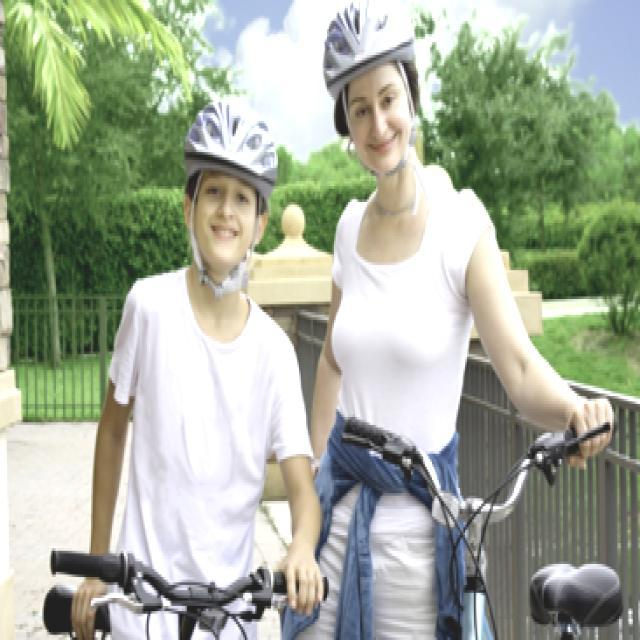Helmet: (171, 100, 287, 294), (320, 0, 427, 202)
